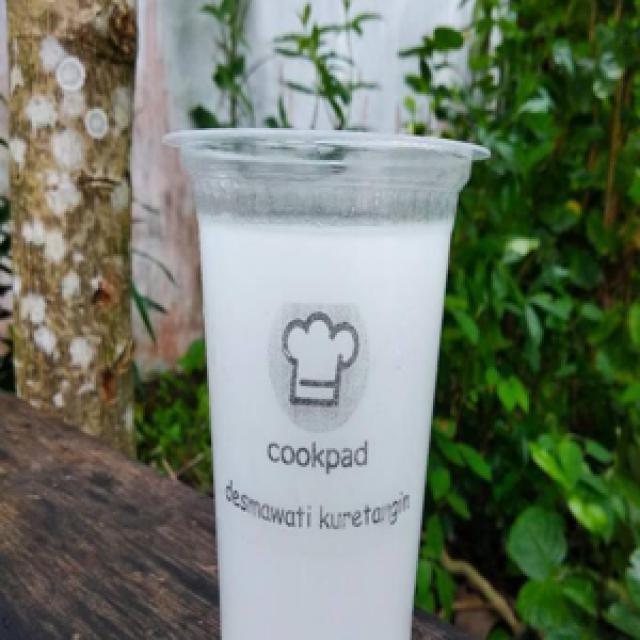plastic cup: (158, 118, 495, 628)
